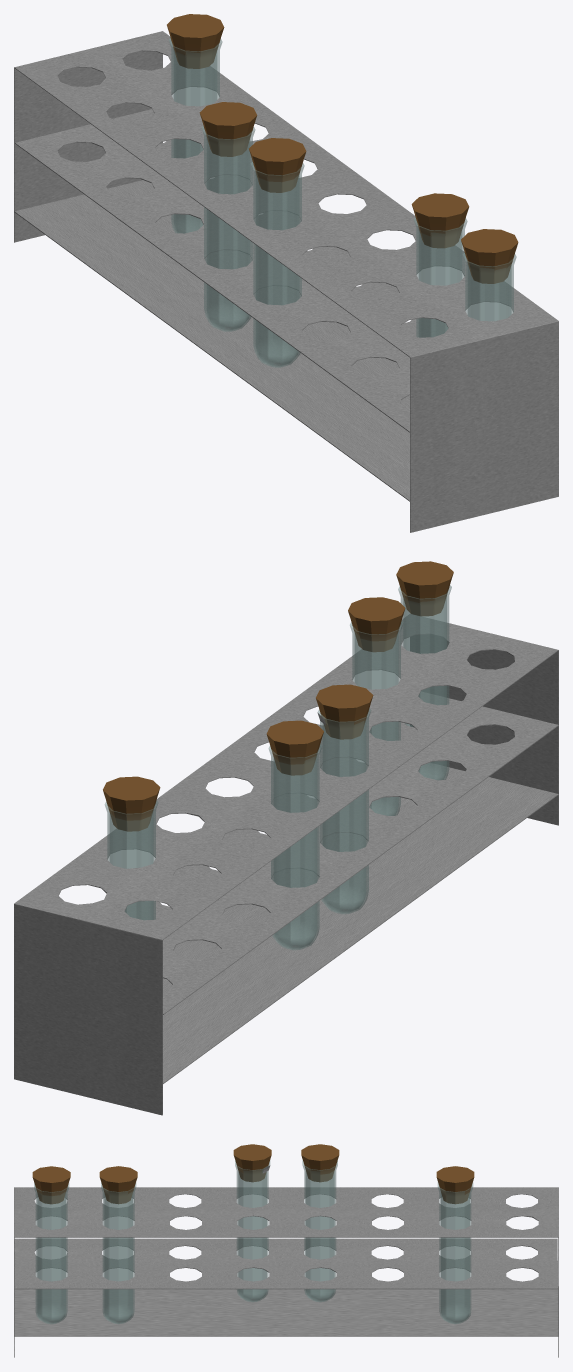
Rendered from TestTubeRack.fbx.
3 renders of one model, top to bottom at view 1: azimuth 30°, elevation 25°; view 2: azimuth 150°, elevation 25°; view 3: azimuth 270°, elevation 25°, orthographic. The views are drawn at different scales.
Visible parts, largest first — view 1: polySurface3, polySurface2, polySurface1, polySurface4, polySurface7, polySurface8, polySurface5, polySurface6, polySurface12, polySurface13, polySurface10, polySurface9 (+1 smaller); view 2: polySurface3, polySurface2, polySurface1, polySurface7, polySurface4, polySurface6, polySurface5, polySurface8, polySurface12, polySurface11, polySurface13, polySurface10 (+1 smaller); view 3: polySurface2, polySurface1, polySurface3, polySurface6, polySurface8, polySurface5, polySurface7, polySurface4, polySurface11, polySurface10, polySurface12, polySurface13 (+1 smaller).
Boxes of the visible parts, left/top/right/bottom form: polySurface3: left=14, top=31, right=558, bottom=532; polySurface2: left=14, top=180, right=409, bottom=501; polySurface1: left=15, top=109, right=447, bottom=432; polySurface4: left=251, top=162, right=304, bottom=367; polySurface7: left=201, top=126, right=255, bottom=331; polySurface8: left=169, top=38, right=222, bottom=233; polySurface5: left=413, top=217, right=467, bottom=337; polySurface6: left=463, top=253, right=516, bottom=321; polySurface12: left=199, top=102, right=257, bottom=156; polySurface13: left=167, top=14, right=224, bottom=68; polySurface10: left=411, top=193, right=469, bottom=248; polySurface9: left=249, top=138, right=306, bottom=192; polySurface3: left=14, top=614, right=558, bottom=1115; polySurface2: left=163, top=763, right=558, bottom=1083; polySurface1: left=125, top=692, right=558, bottom=1014; polySurface7: left=268, top=744, right=322, bottom=950; polySurface4: left=317, top=708, right=371, bottom=914; polySurface6: left=398, top=585, right=451, bottom=780; polySurface5: left=350, top=621, right=403, bottom=815; polySurface8: left=104, top=800, right=158, bottom=920; polySurface12: left=266, top=720, right=323, bottom=775; polySurface11: left=396, top=561, right=453, bottom=616; polySurface13: left=103, top=776, right=160, bottom=831; polySurface10: left=348, top=597, right=405, bottom=652; polySurface2: left=14, top=1286, right=558, bottom=1336; polySurface1: left=14, top=1238, right=557, bottom=1289; polySurface3: left=14, top=1187, right=558, bottom=1357; polySurface6: left=34, top=1182, right=69, bottom=1324; polySurface8: left=437, top=1182, right=473, bottom=1324; polySurface5: left=101, top=1182, right=136, bottom=1324; polySurface7: left=302, top=1160, right=337, bottom=1302; polySurface4: left=235, top=1160, right=270, bottom=1302; polySurface11: left=32, top=1166, right=70, bottom=1204; polySurface10: left=99, top=1166, right=137, bottom=1204; polySurface12: left=301, top=1144, right=339, bottom=1182; polySurface13: left=436, top=1166, right=474, bottom=1204.
Bounding box in the file's own units: 3.5 × 5.54 × 16.18.
3 materials, 1 textured.
